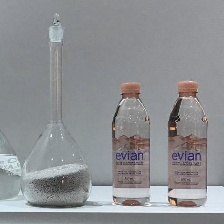bottle: (164, 78, 213, 210), (107, 78, 153, 209)
